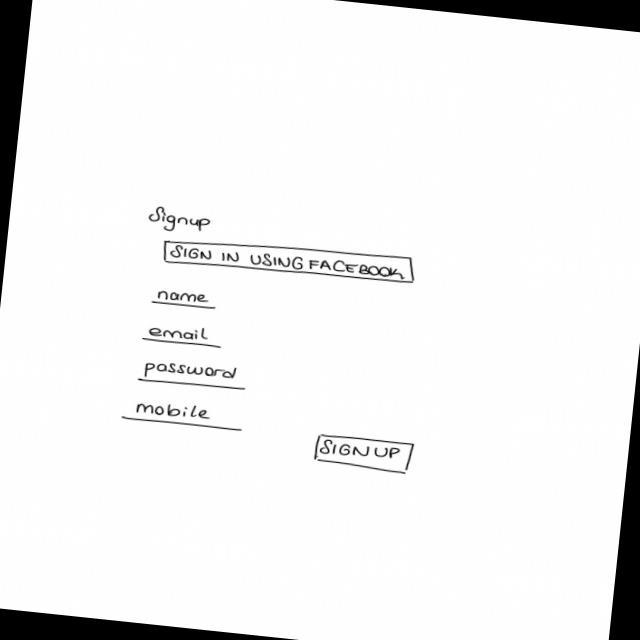button: (160, 230, 418, 290), (312, 430, 418, 476)
input: (117, 392, 245, 433), (136, 356, 250, 392), (140, 318, 226, 349), (149, 286, 217, 312)
label: (142, 202, 214, 236)
